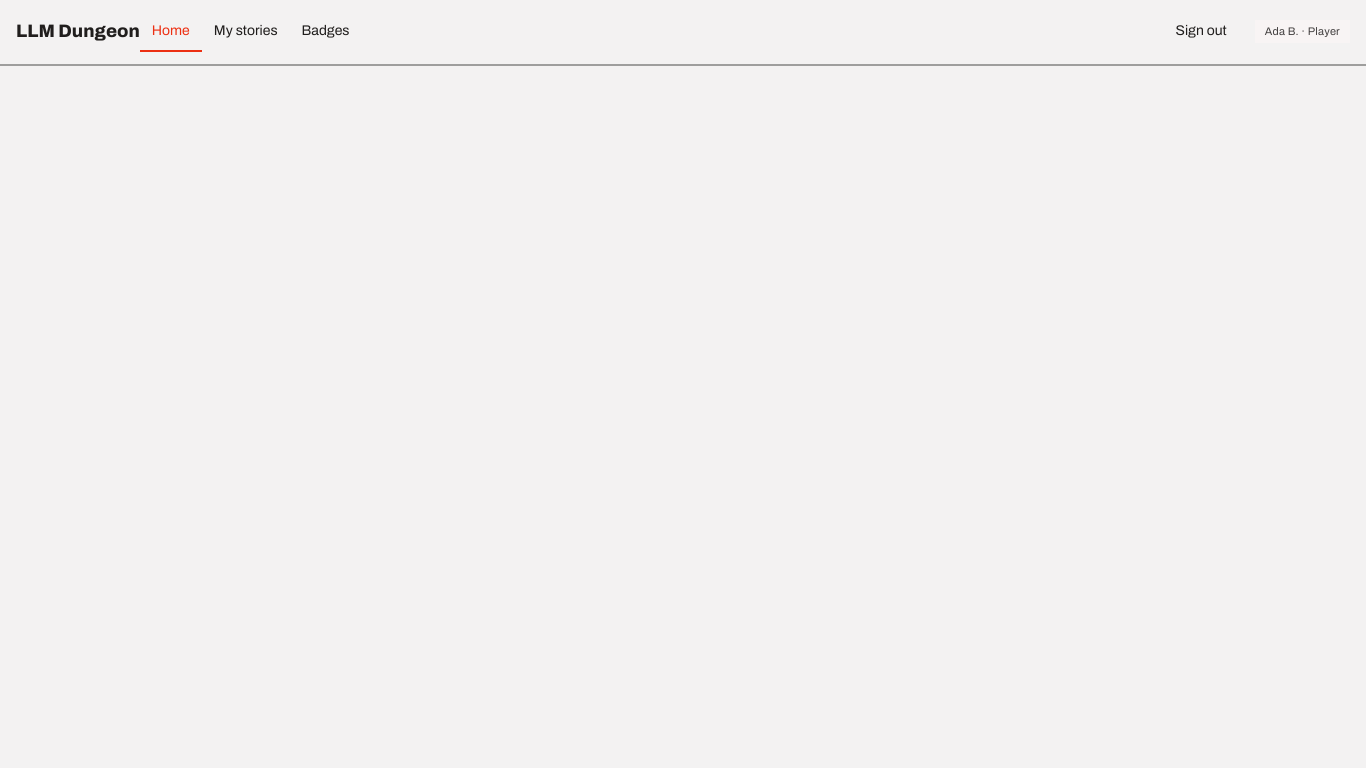
Test case: NavBar sign-out save prompt (009-save-and-continue, FR-004, research.md Decision 6) › cancelling the prompt does neither
This screenshot has width=1366, height=768.
Step 1. Click the link "Sign out" → (1201, 30), box [1176,23,1227,38]
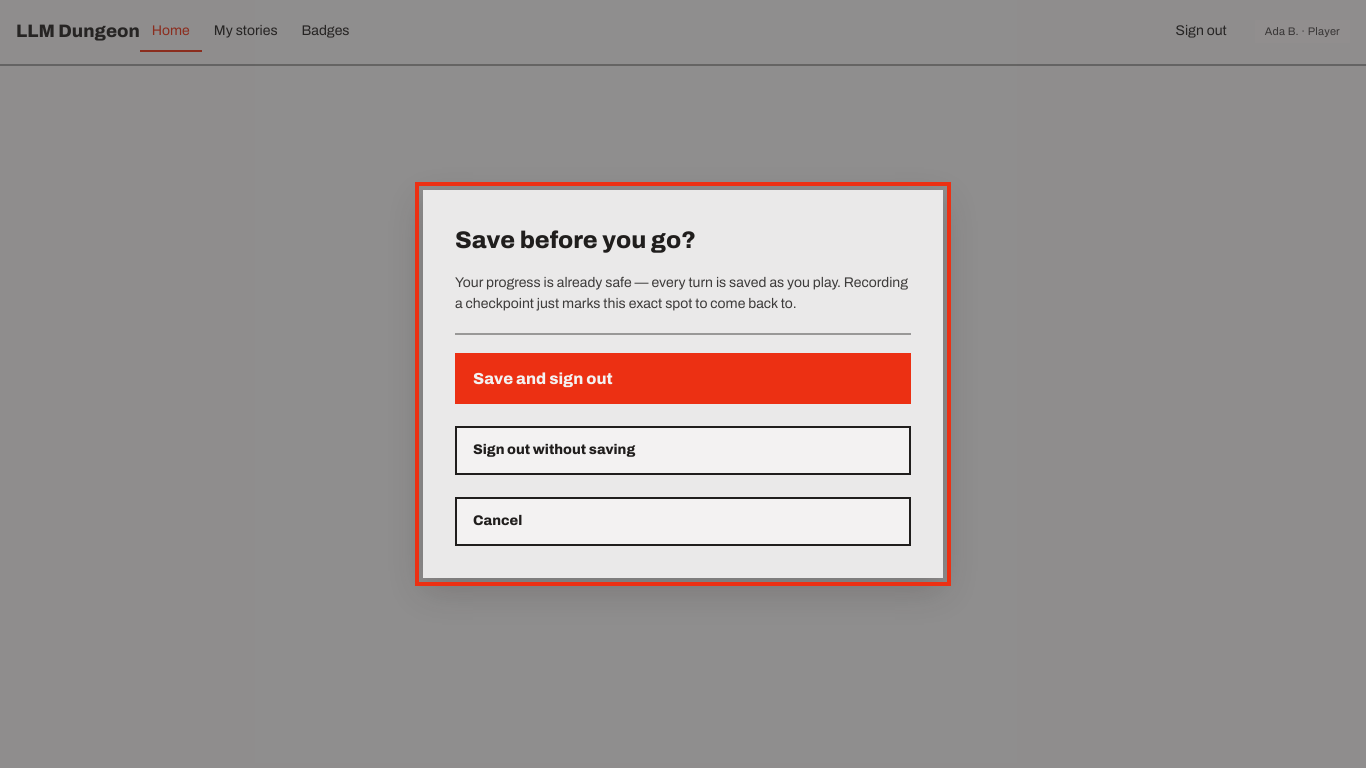
Result: the dialog is shown at [423,190,943,578]
Step 2. Click the button "Cancel" → (498, 520), box [455,497,911,546]
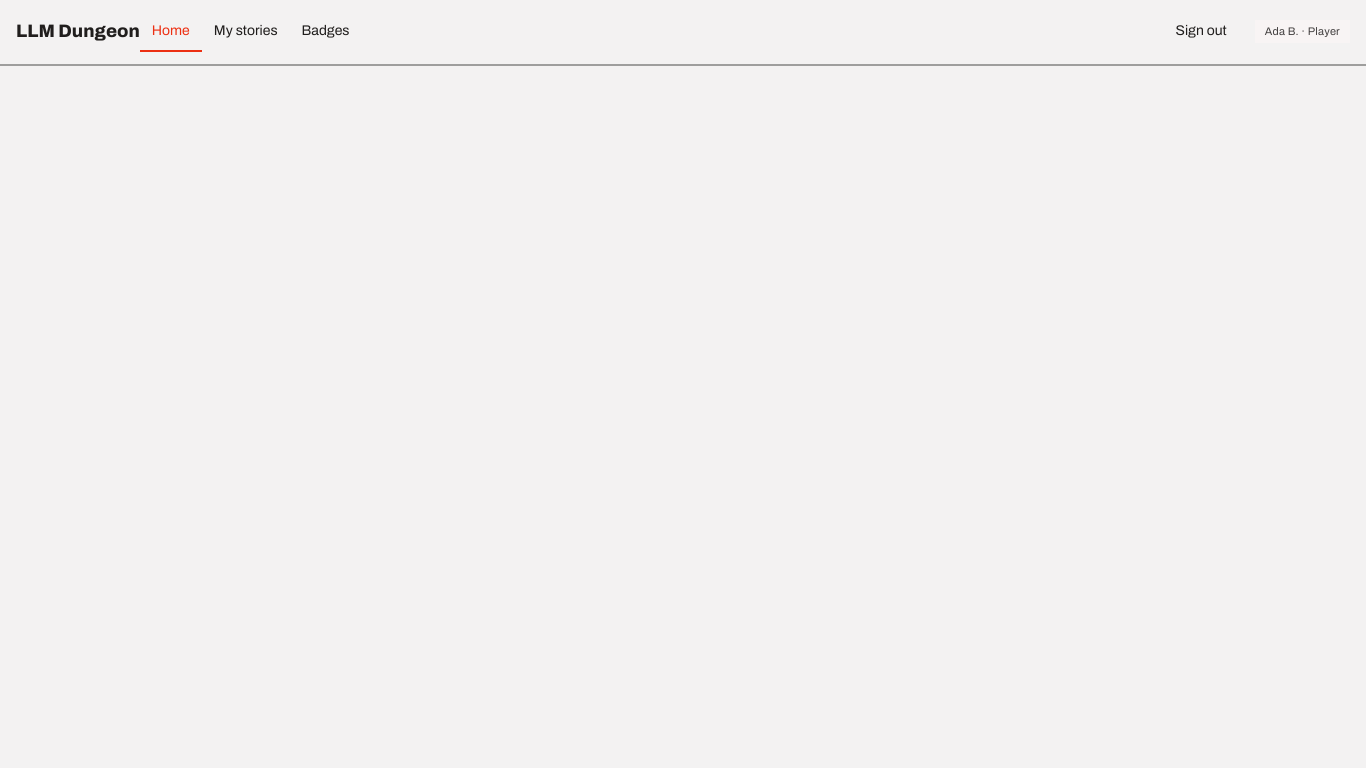
Result: the dialog is gone
